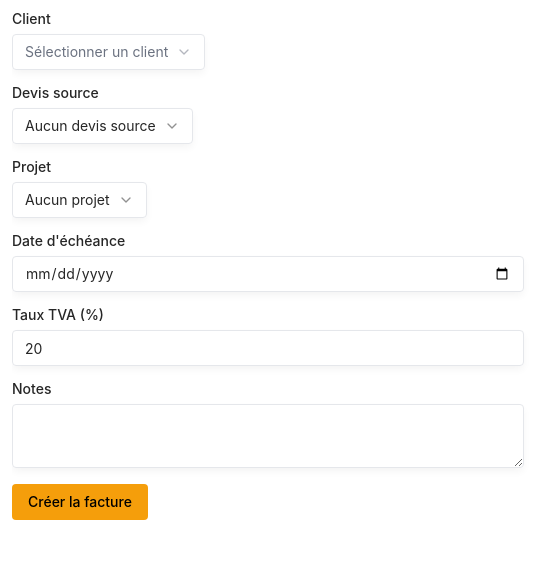
Test: InvoiceForm › T4 — create: sélection quote → inputs disabled + hint
Step 1. Click the dropdown with test id "invoice-quoteId-select" → [102, 126], box [12,108,193,144]
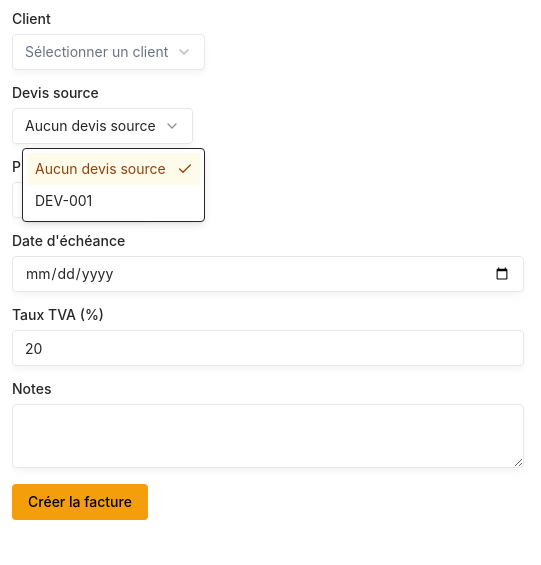
Expected: the option "DEV-001" is shown
Step 2. Click the option "DEV-001" → [64, 200], box [35,192,92,209]
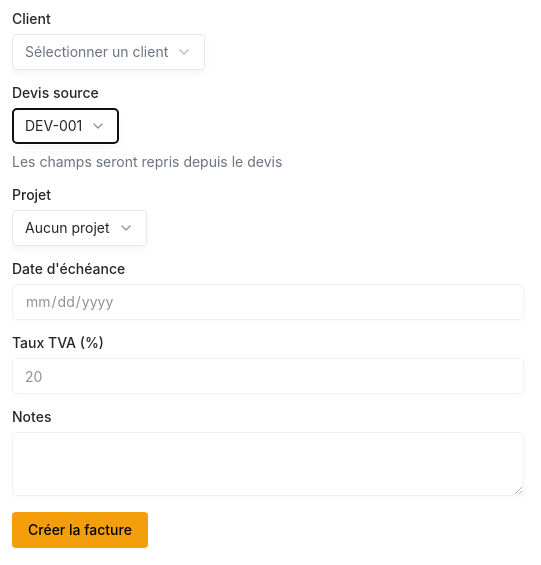
Expected: the text "Les champs seront repris depuis le devis" is shown, [12,153,282,170]
Expected: the dropdown with test id "invoice-projectId-select" is disabled, [12,210,147,246]
Expected: the date field with test id "invoice-dueAt-input" is disabled, [12,284,524,320]
